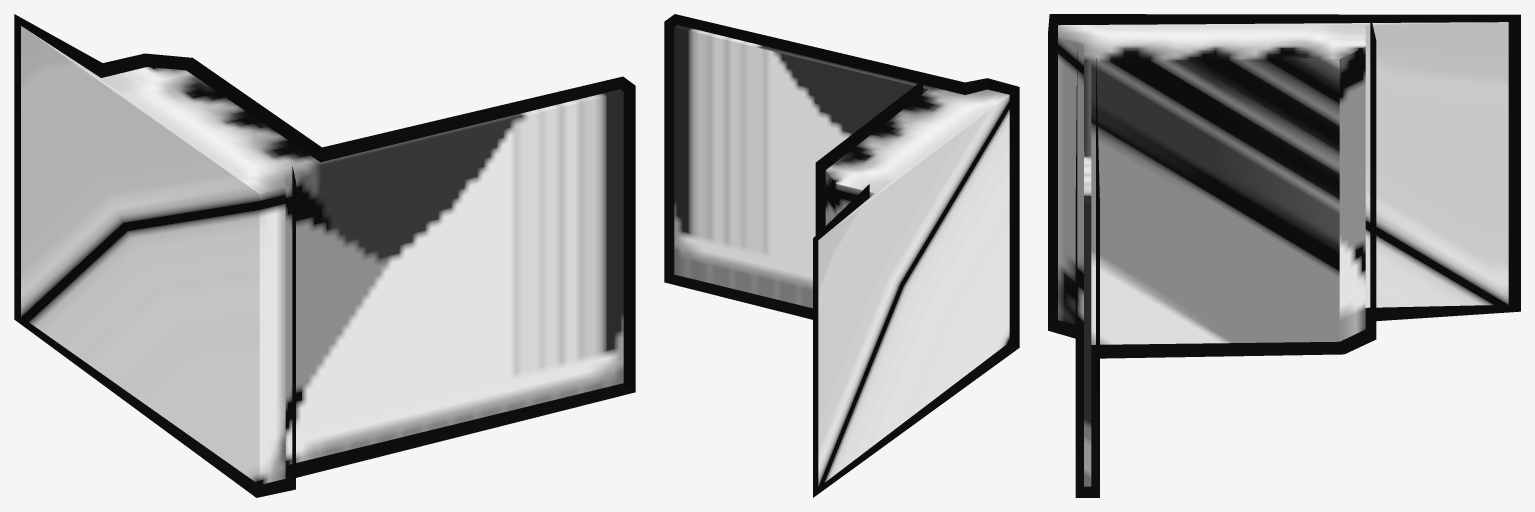
The model's file is Building_TrapSpike_Things_Building_Security_TrapSpikeArmed.glb.
3 views of the same model, side by side, from view 1: azimuth 30°, elevation 25°; view 2: azimuth 150°, elevation 25°; view 3: azimuth 270°, elevation 25° (orthographic). The views are drawn at different scales.
Parts seen in each view (by area): view 1: Body, Outline; view 2: Body, Outline; view 3: Body, Outline.
Part boxes in pixels (<box>): Body: <box>21,26,623,484</box>; Outline: <box>14,14,635,497</box>; Body: <box>674,25,1009,487</box>; Outline: <box>664,14,1019,497</box>; Body: <box>1058,22,1508,486</box>; Outline: <box>1048,14,1520,497</box>.
Bounding box in the file's own units: 0.9422 × 0.7239 × 1.01.
2 materials, 1 textured.
